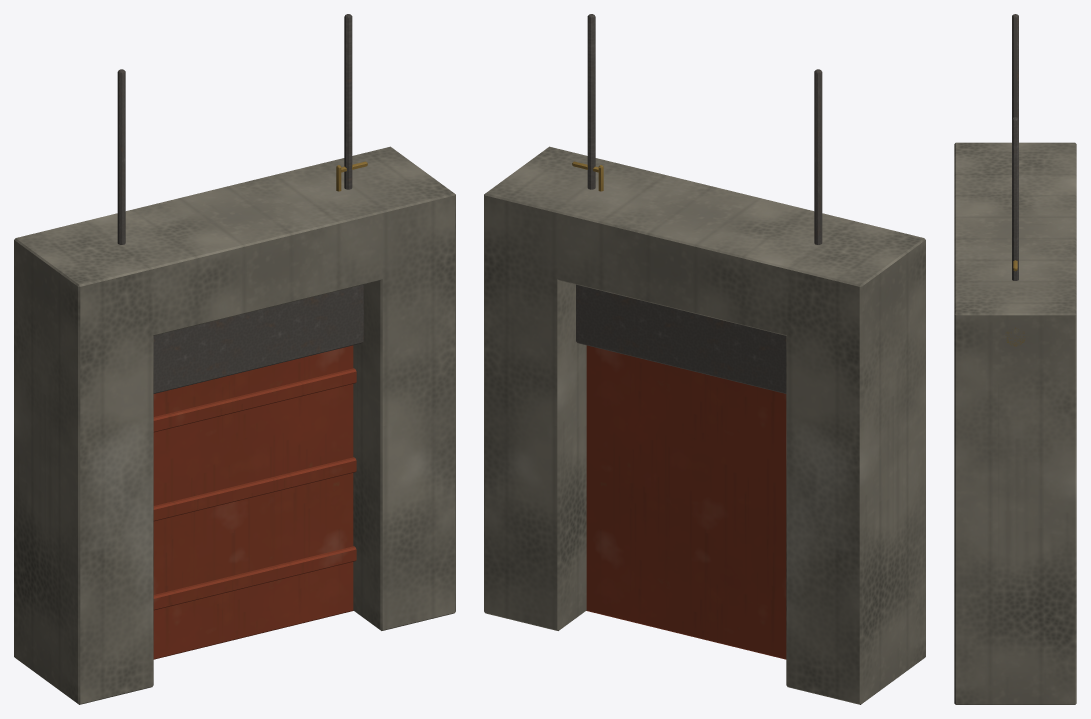
Rendered from WK_HERO_SLUICE_A_01.glb.
3 renders of one model, left to right at view 1: azimuth 30°, elevation 25°; view 2: azimuth 150°, elevation 25°; view 3: azimuth 270°, elevation 25°, orthographic. The views are drawn at different scales.
Visible parts, largest first — view 1: WK_HERO_SLUICE_A_01; view 2: WK_HERO_SLUICE_A_01; view 3: WK_HERO_SLUICE_A_01.
Boxes of the visible parts, <box> form: WK_HERO_SLUICE_A_01: <box>14,14,455,704</box>; WK_HERO_SLUICE_A_01: <box>484,14,925,704</box>; WK_HERO_SLUICE_A_01: <box>954,14,1076,704</box>.
Bounding box in the file's own units: 4 × 6 × 1.2.
Materials: 4 (4 with a texture image).
